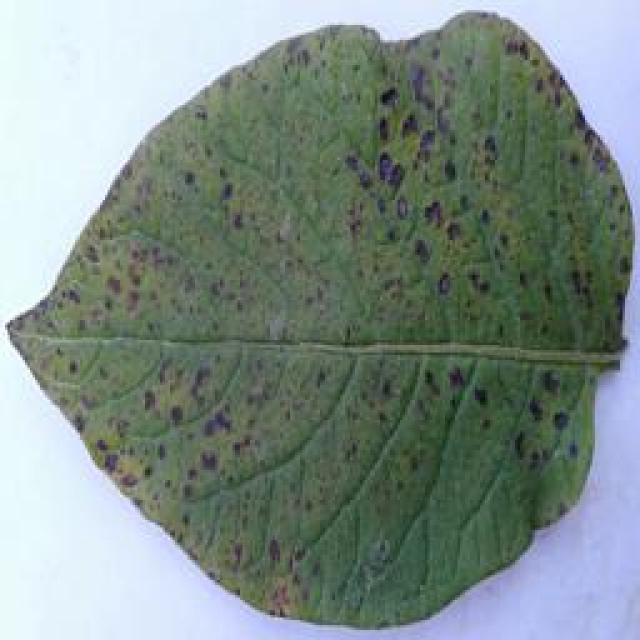Potato_Early_Blight: (0, 12, 628, 640)
